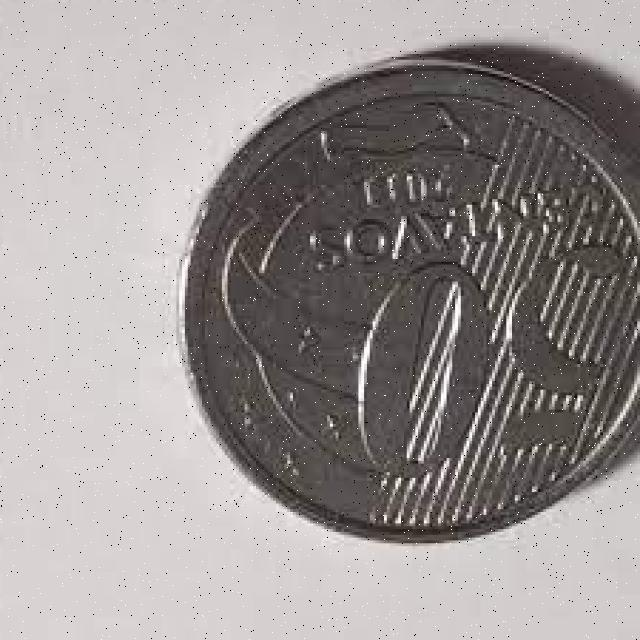50 cent: (172, 52, 640, 542)
